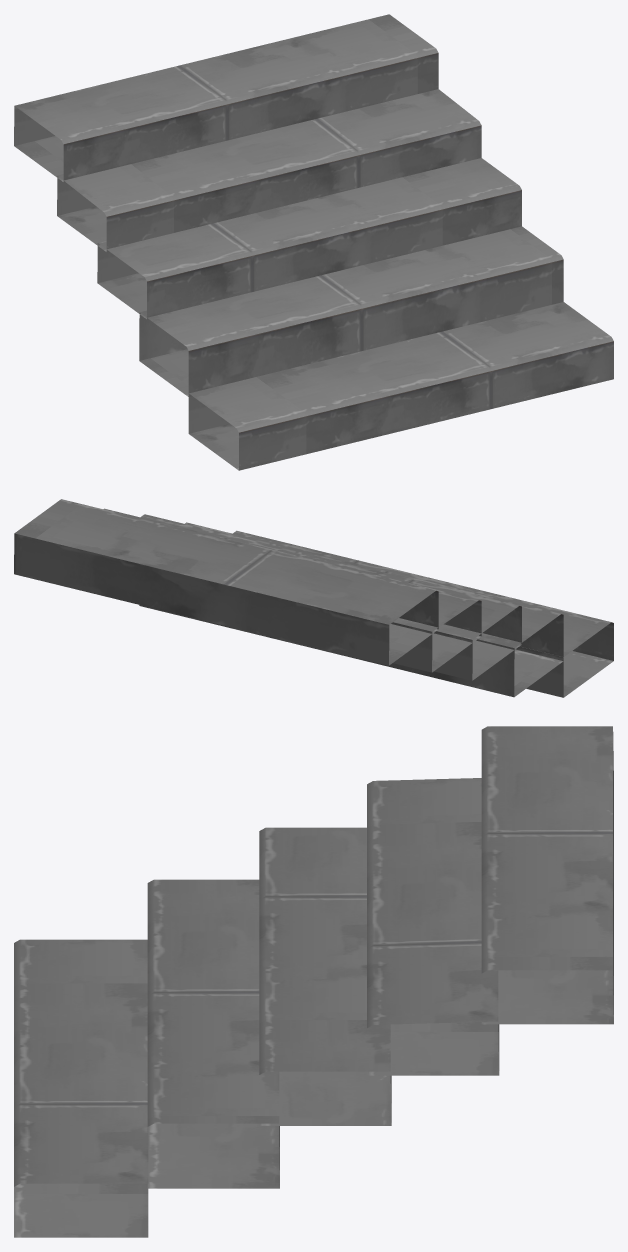
File: Stairs_Exterior_Straight_Center.gltf
3 renders of one model, top to bottom at view 1: azimuth 30°, elevation 25°; view 2: azimuth 150°, elevation 25°; view 3: azimuth 270°, elevation 25°, orthographic. The views are drawn at different scales.
Visible parts, largest first — view 1: Stairs_Exterior_Straight_Center; view 2: Stairs_Exterior_Straight_Center; view 3: Stairs_Exterior_Straight_Center.
Boxes of the visible parts, x1,y1,x2,y2 form: Stairs_Exterior_Straight_Center: [14, 14, 613, 470]; Stairs_Exterior_Straight_Center: [14, 499, 613, 697]; Stairs_Exterior_Straight_Center: [14, 726, 613, 1237].
Bounding box in the file's own units: 2 × 1.02 × 2.08.
Materials: 1 (1 with a texture image).
